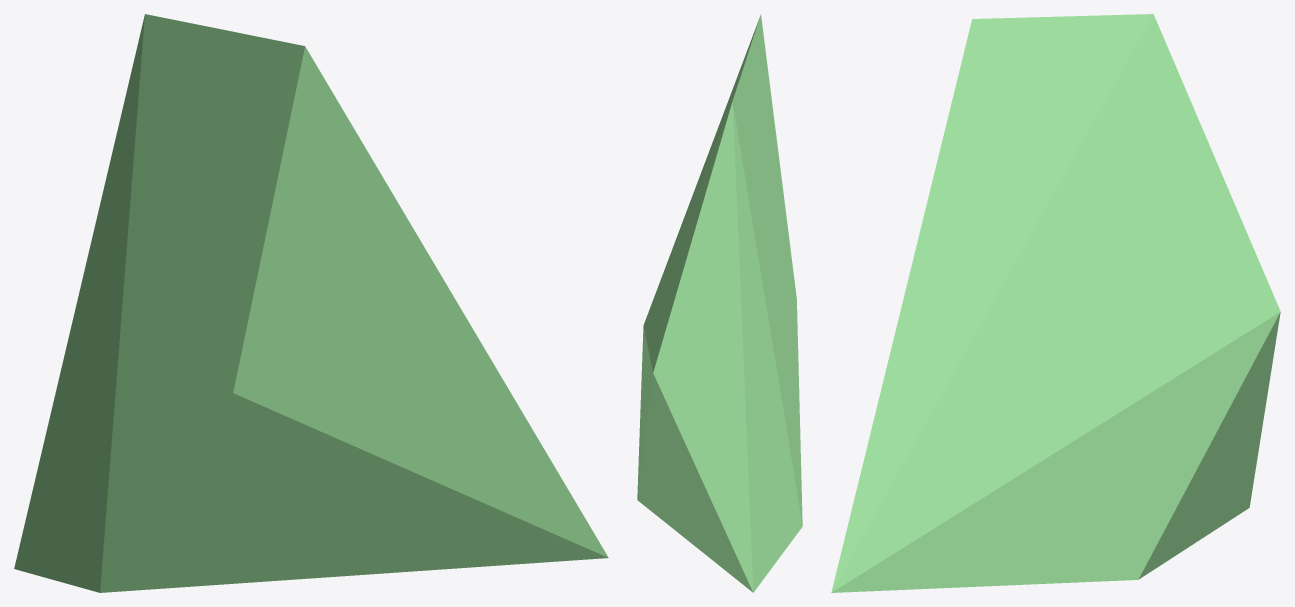
The model's file is dvkr_robot_L3_dx_respondable_TOOL1_coll_4.dae.
3 renders of one model, left to right at view 1: azimuth 30°, elevation 25°; view 2: azimuth 150°, elevation 25°; view 3: azimuth 270°, elevation 25°, orthographic. The views are drawn at different scales.
Parts seen in each view (by area): view 1: Node_0000023514CD8050; view 2: Node_0000023514CD8050; view 3: Node_0000023514CD8050.
Part boxes in pixels (<box>): Node_0000023514CD8050: <box>14,14,608,592</box>; Node_0000023514CD8050: <box>637,14,802,592</box>; Node_0000023514CD8050: <box>831,14,1280,592</box>.
Bounding box in the file's own units: 0.00126 × 0.00195 × 0.00144.
